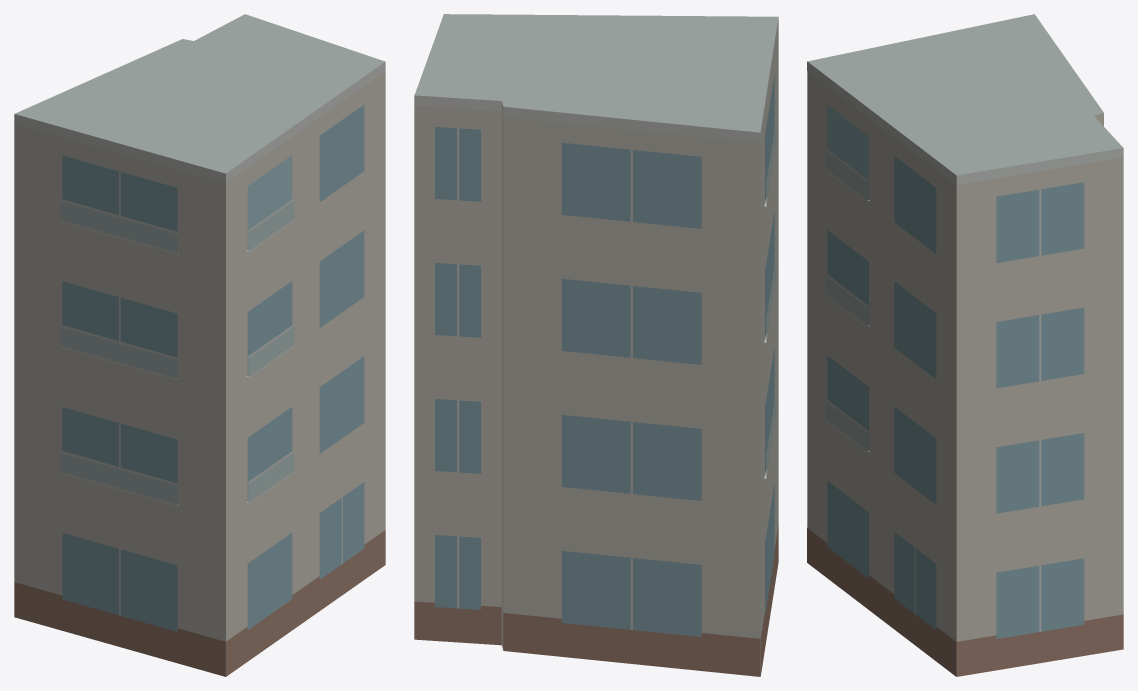
Rendered from survey-upis-32463445.glb.
The picture shows the model from 3 angles, left to right: view 1: azimuth 30°, elevation 25°; view 2: azimuth 150°, elevation 25°; view 3: azimuth 270°, elevation 25°; orthographic projection. The views are drawn at different scales.
Parts seen in each view (by area): view 1: survey-upis-32463445.tmp; view 2: survey-upis-32463445.tmp; view 3: survey-upis-32463445.tmp.
Boxes of the visible parts, <box> form: survey-upis-32463445.tmp: <box>14,14,385,676</box>; survey-upis-32463445.tmp: <box>414,14,778,676</box>; survey-upis-32463445.tmp: <box>807,14,1123,676</box>.
Bounding box in the file's own units: 8.85 × 12.8 × 7.33.
